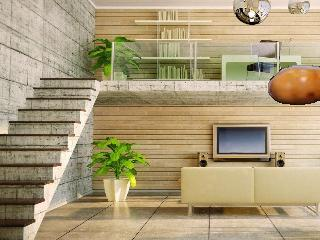potato: (269, 66, 320, 105)
